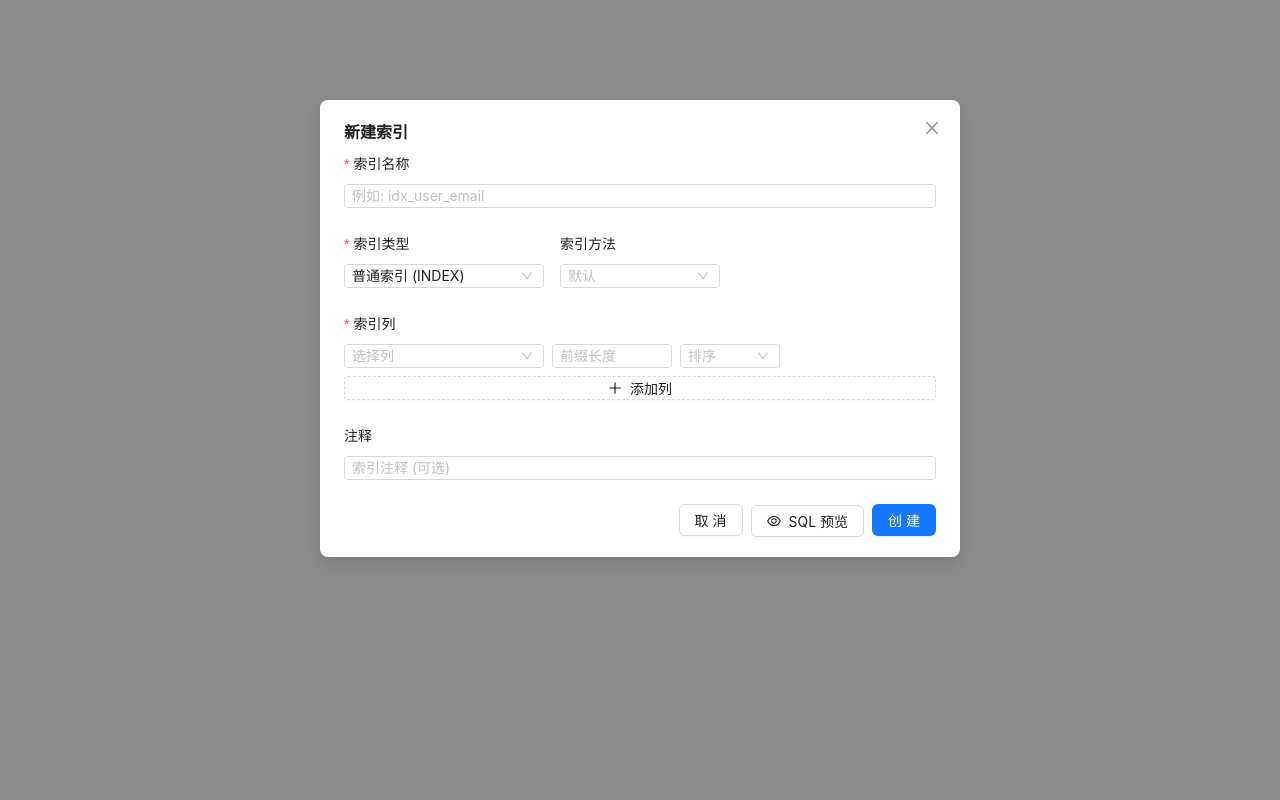
it: 索引和触发器 SQL 预览 › index 缺少名称时先校验，不发送预览请求
Click the button "SQL 预览" at (807, 520), box [750,504,864,536]
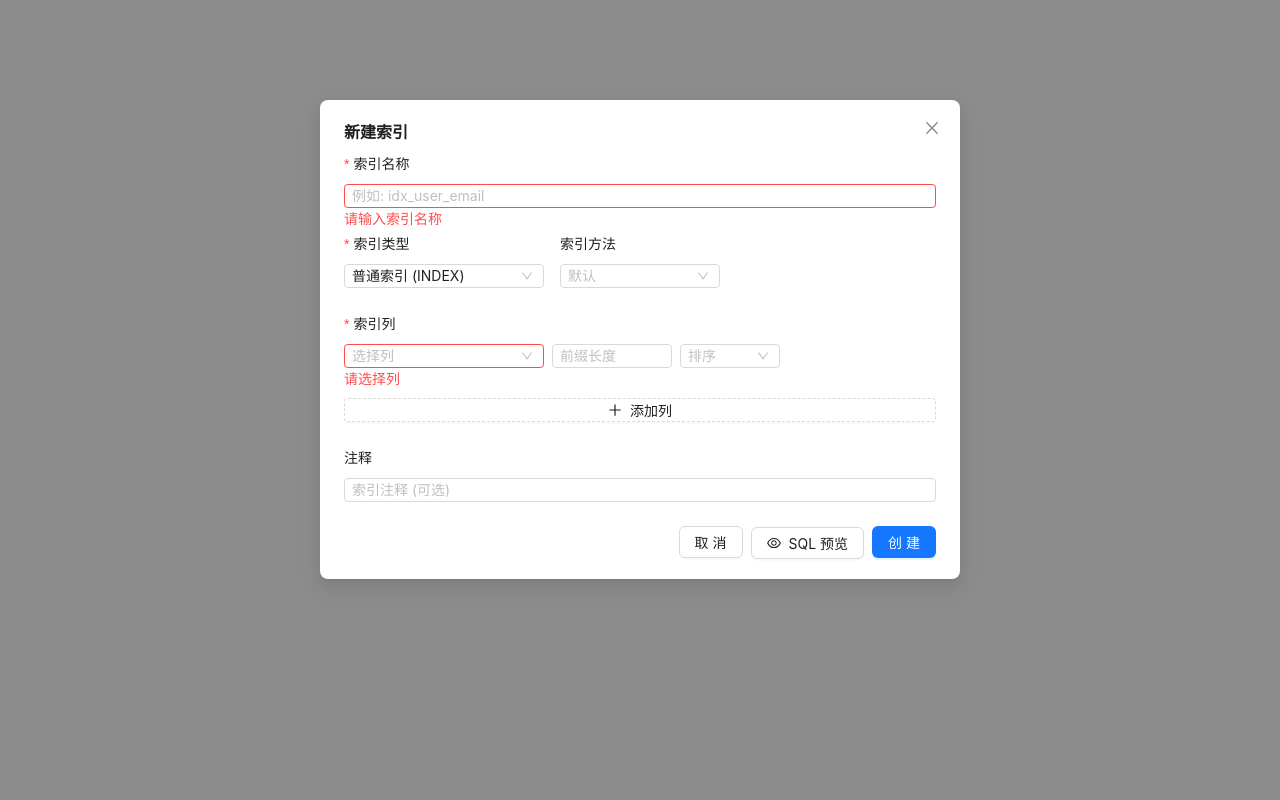
expect the text "请输入索引名称" is shown: met, box [344,210,442,227]
